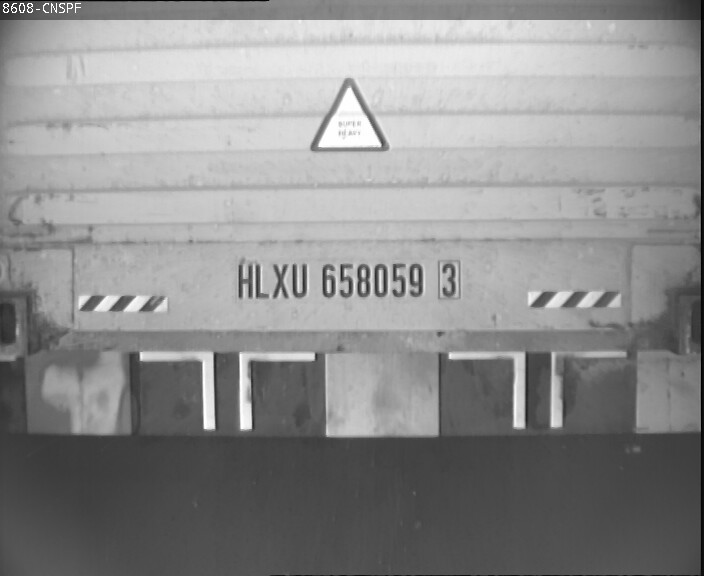groundmarker_1: (139, 351, 312, 430), (444, 350, 617, 429)
